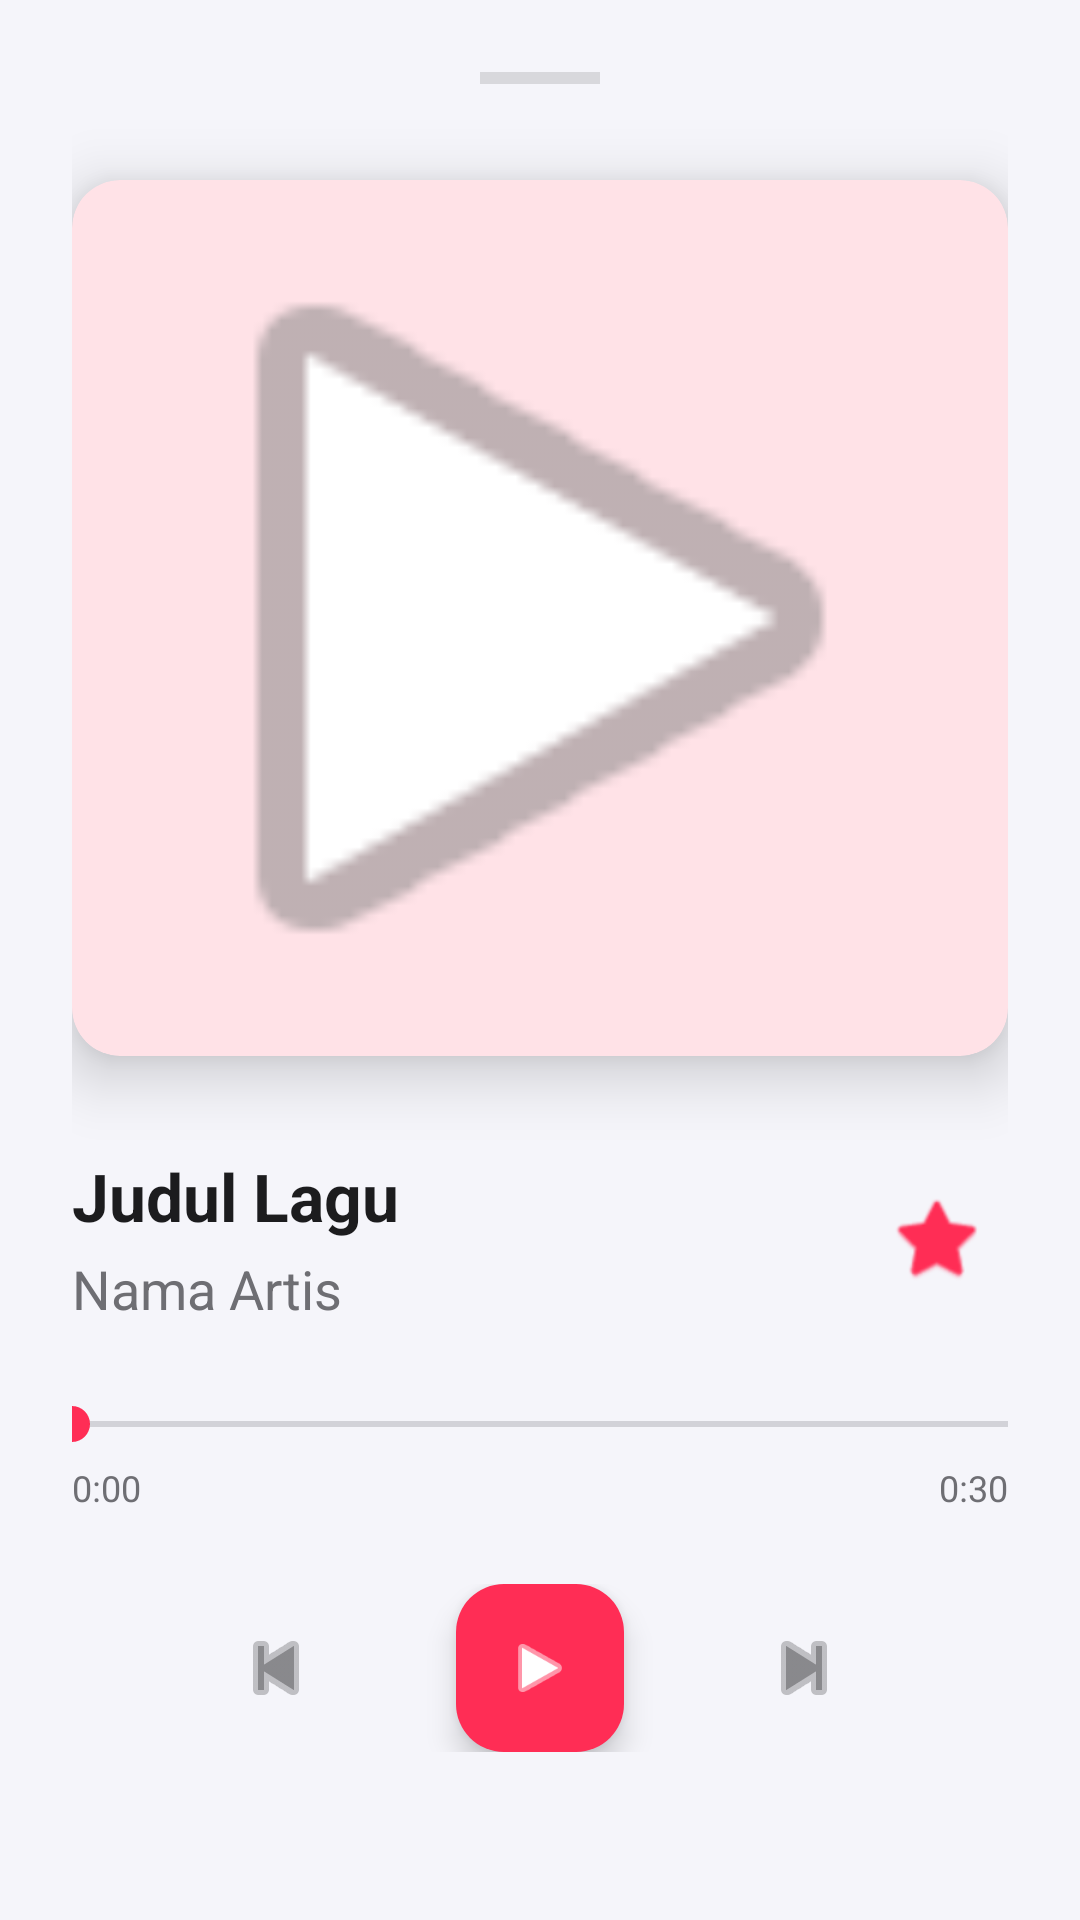

Icons on this 1080 x 1920 Android screen, each with the point to tap as [x,y]:
Favorite: [937,1239]
Next: [804,1668]
Play/Pause: [540,1668]
Previous: [276,1668]
